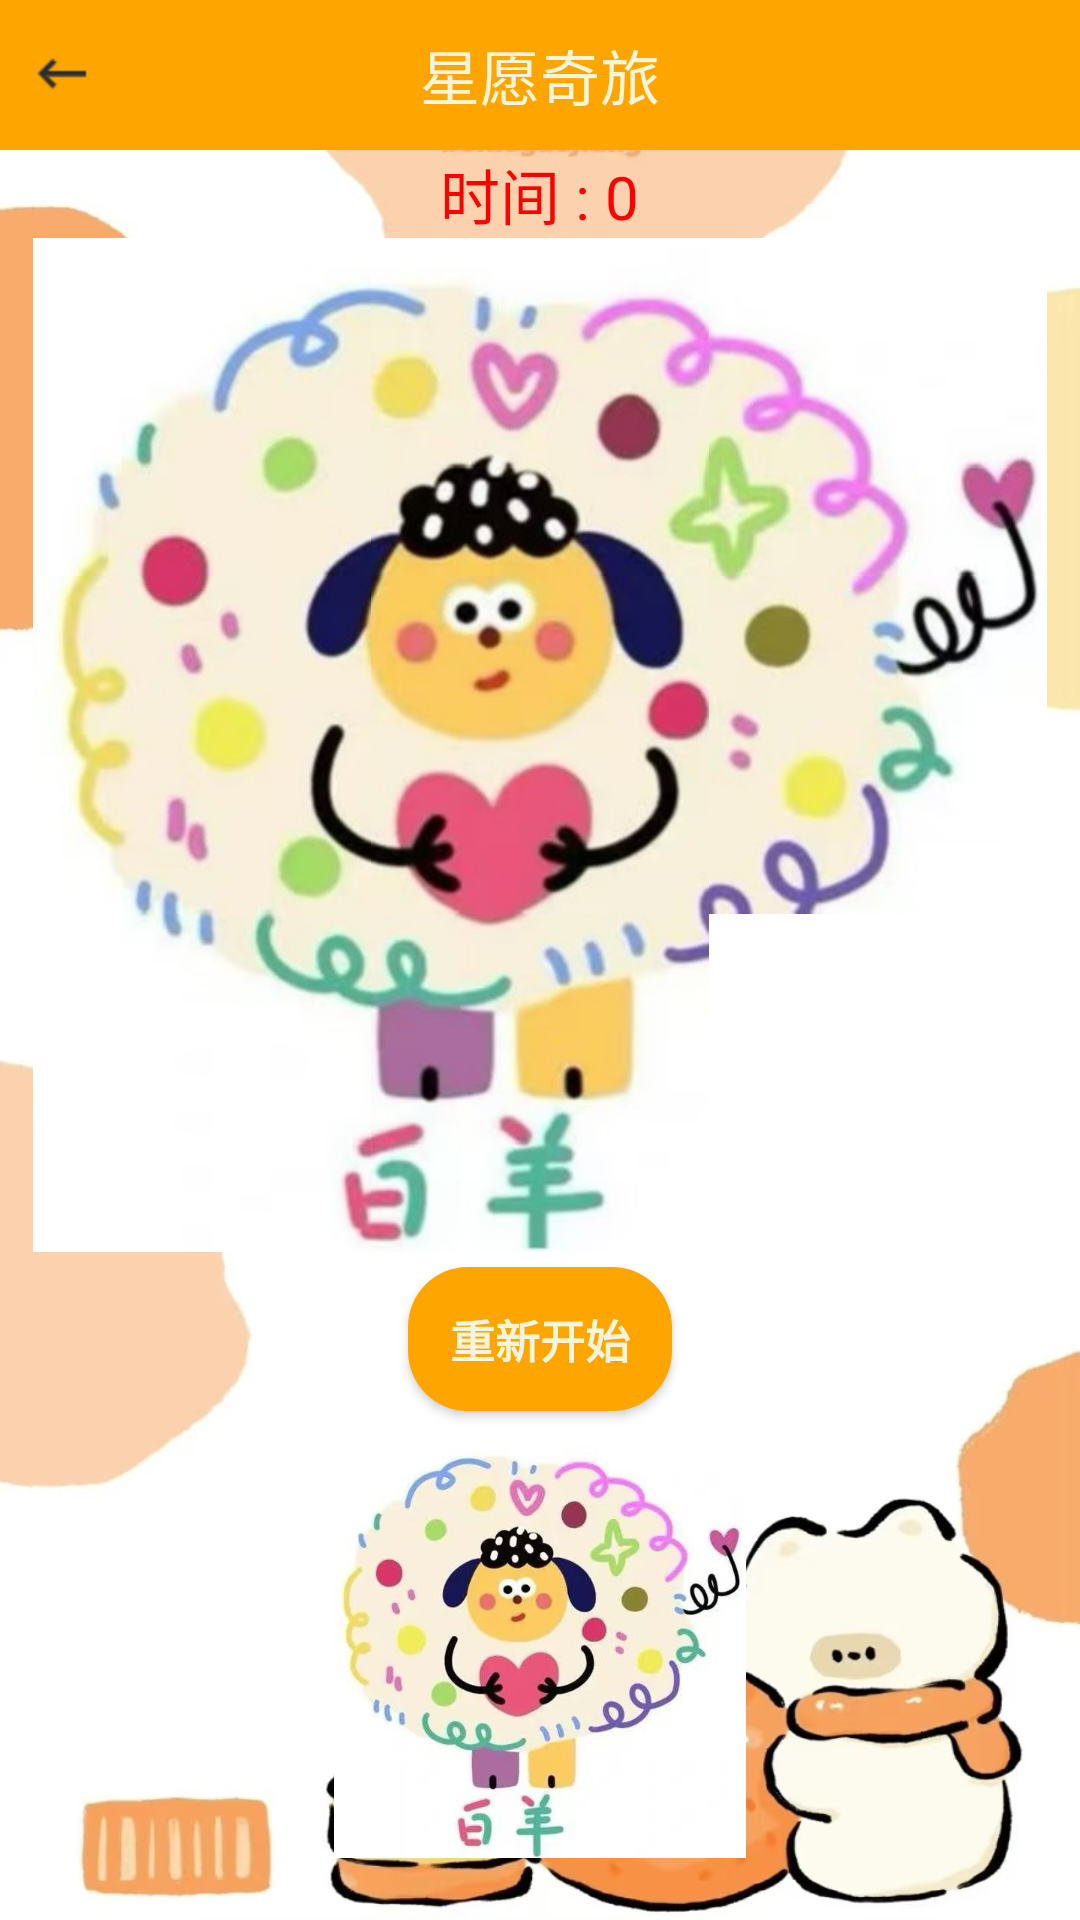

Locate icon controls on the screen. Image size 1080×1920, boxes as {"x1": x1, "y1": y1, "x2": x2, "y2": y2}.
leftback: {"x1": 37, "y1": 58, "x2": 87, "y2": 89}
